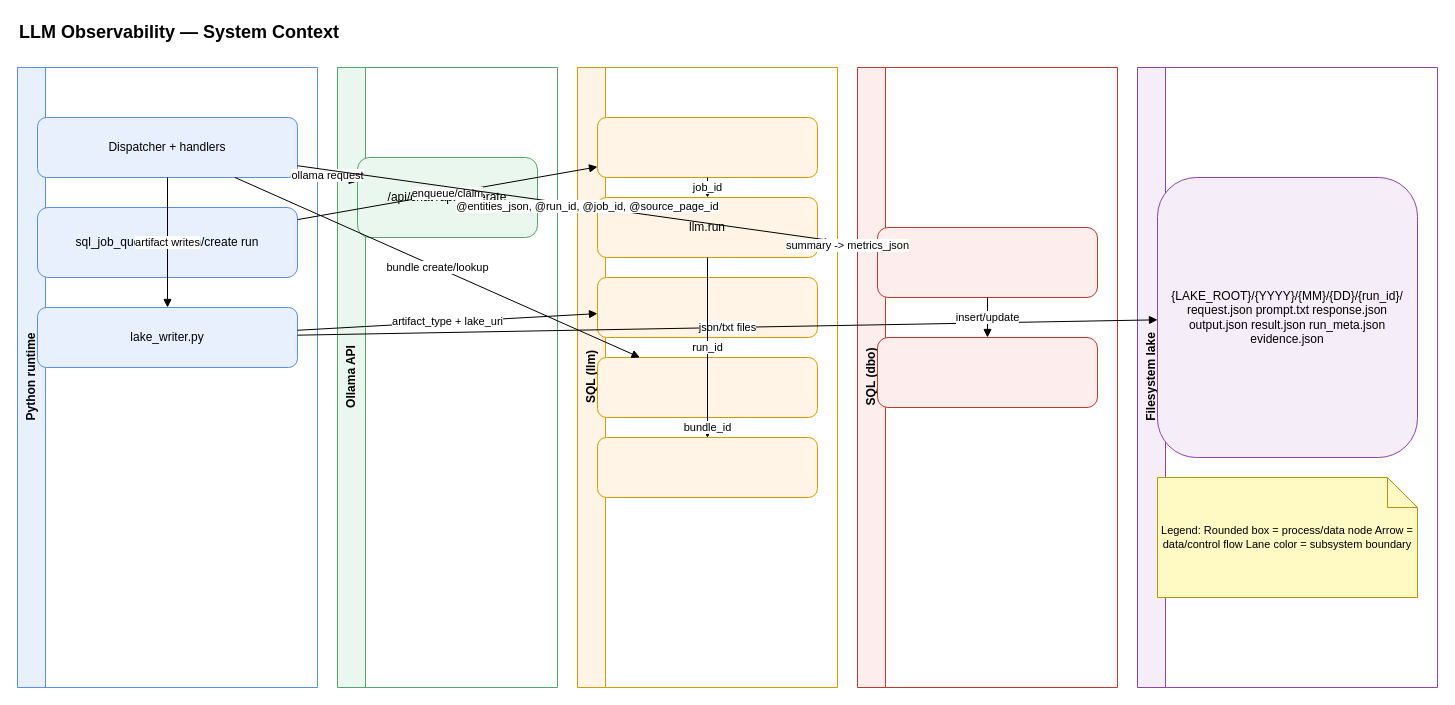
Image size: 1455x705. Some labels were removed from this diagram. Each missing label, with the centre of its shape:
dbo.DimEntity (+ downstream): point (987, 372)
dbo.usp_batch_insert_entities: point (987, 262)
llm.artifact: point (707, 307)
llm.evidence_bundle: point (707, 387)
llm.job: point (707, 147)
llm.run_evidence: point (707, 467)
